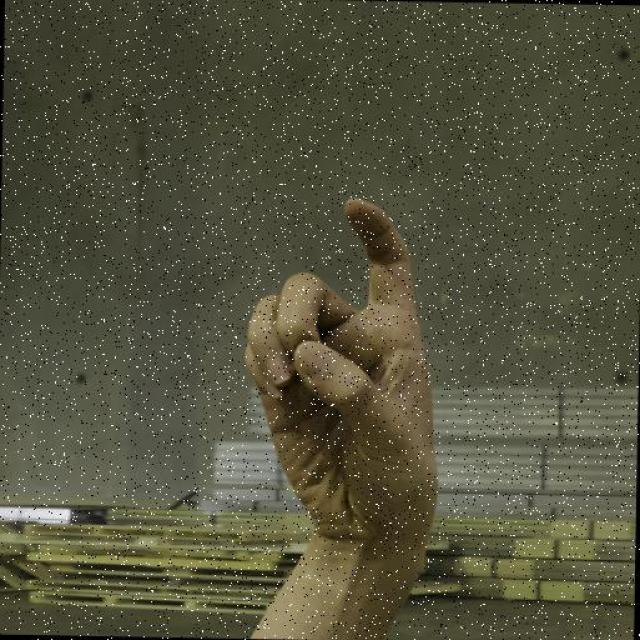X: (237, 191, 453, 555)
